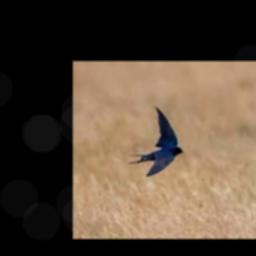Swallow: (129, 106, 183, 175)
